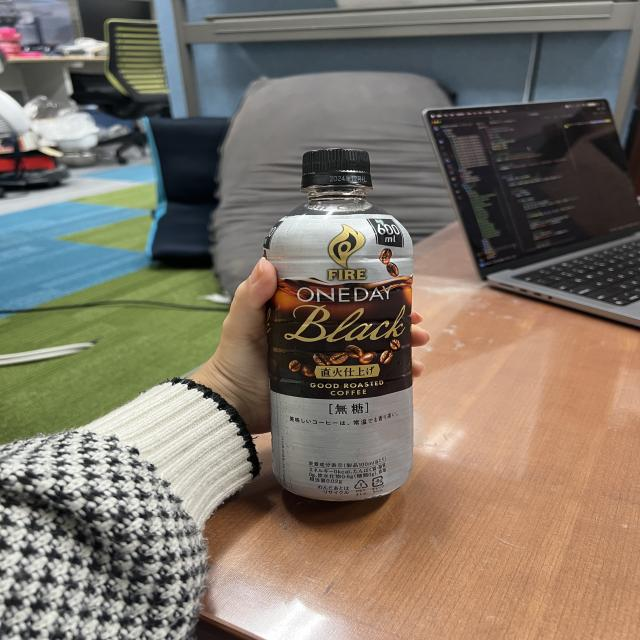coffee-black: (265, 149, 412, 503)
